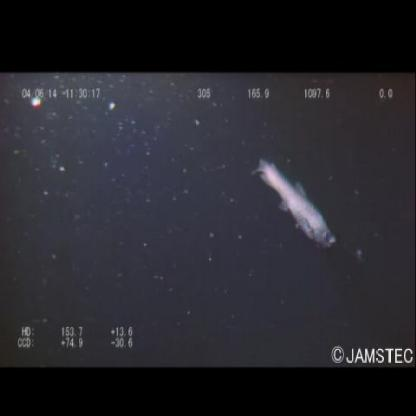Bio: (249, 152, 337, 252)
